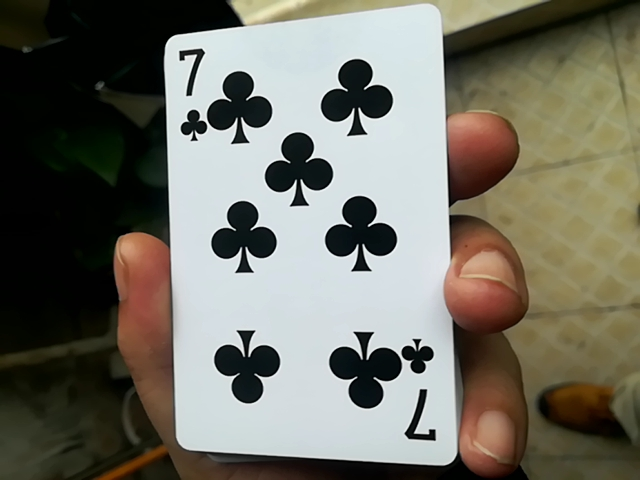mh 7: (148, 7, 458, 477)
